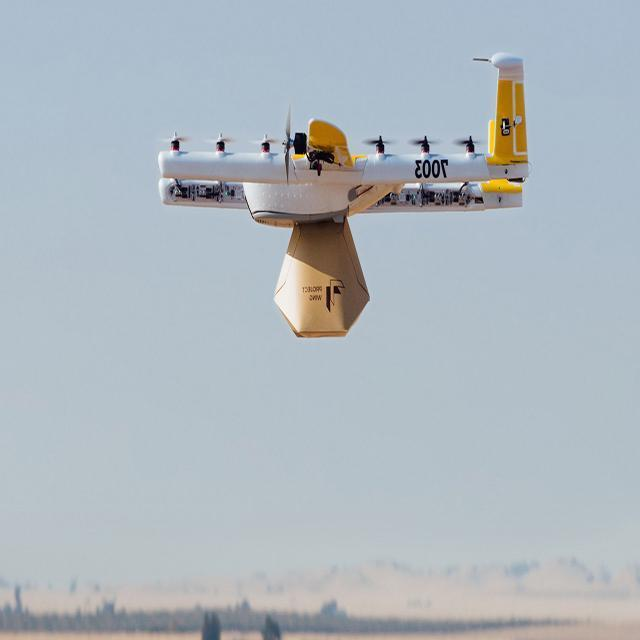iha: (148, 45, 537, 340)
